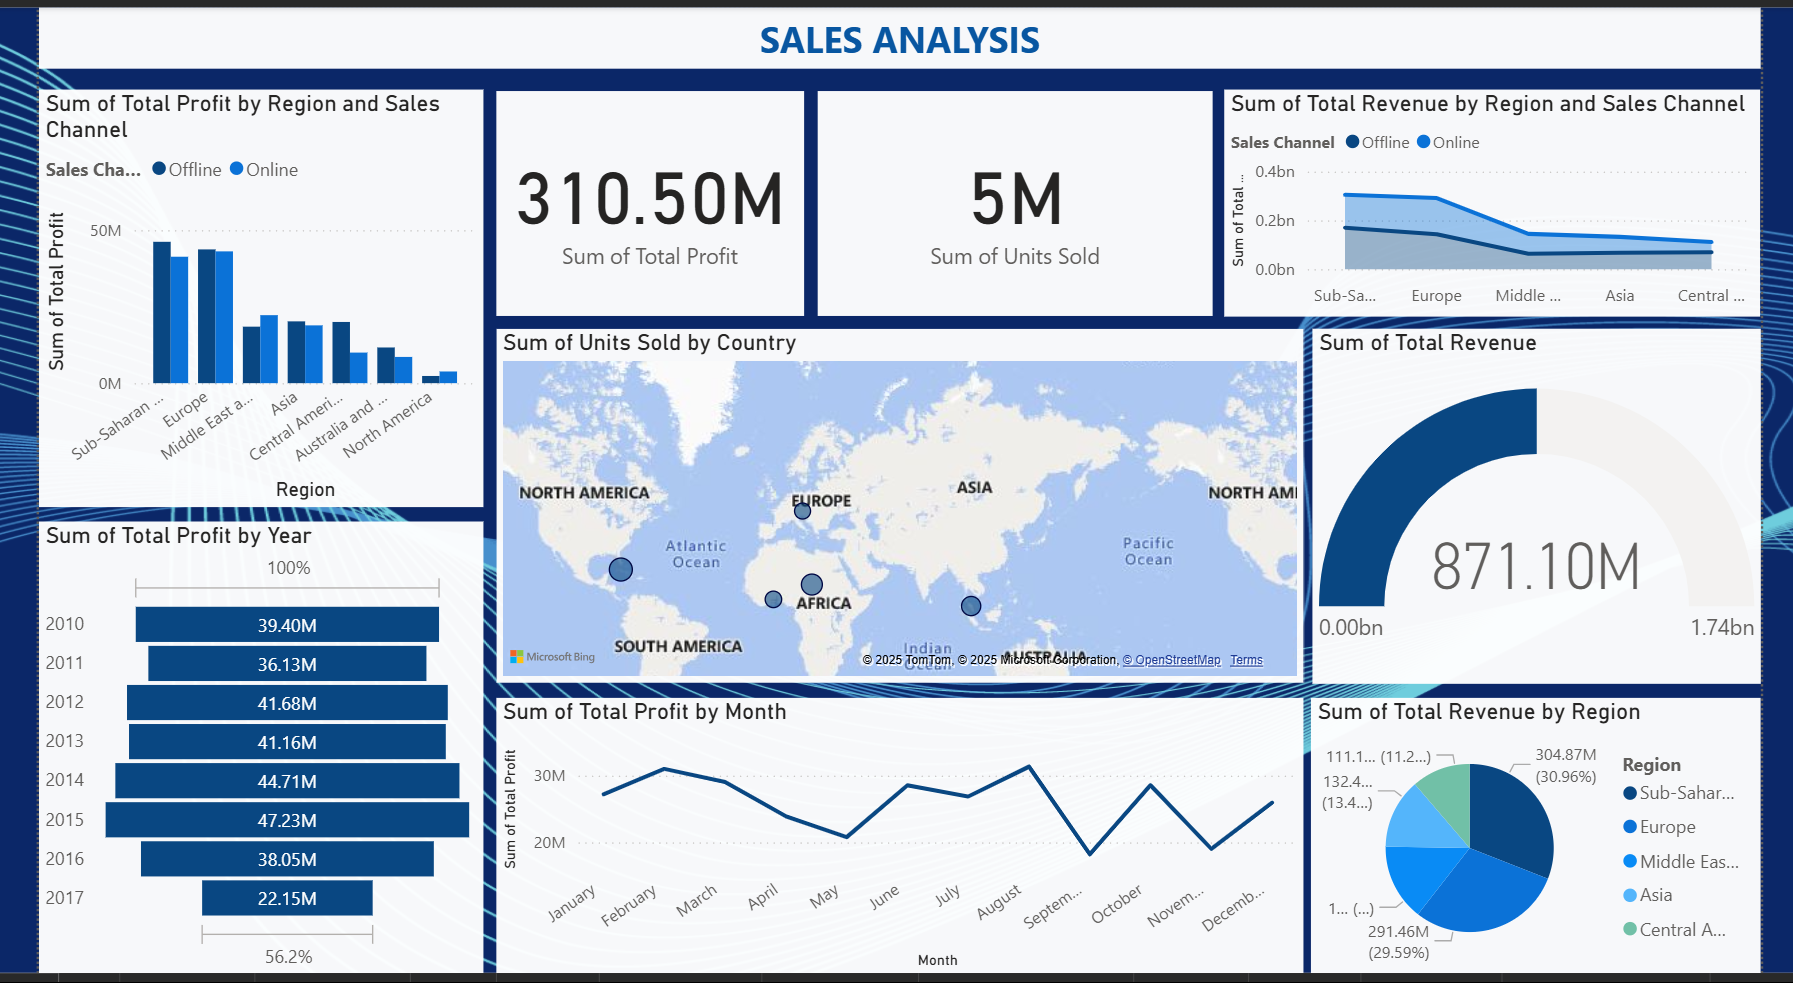

The dashboard page shown, as its layout file describes it:
{"tool":"powerbi","page":{"name":"Page 5","canvas":[1280,720],"ordinal":17},"visuals":[{"type":"textbox","box":[0,0,1280,45.6],"z":0},{"type":"clusteredColumnChart","fields":{"Category":["charts.Region"],"Y":["Sum(charts.Total Profit)"],"Series":["charts.Sales Channel"]},"box":[0,61.2,330,310],"z":1000},{"type":"lineChart","fields":{"Category":["charts.Order Date.Variation.Date Hierarchy.Month"],"Y":["Sum(charts.Total Profit)"]},"box":[340,513.8,600,206.2],"z":2000},{"type":"pieChart","fields":{"Category":["charts.Region"],"Y":["Sum(charts.Total Revenue)"]},"box":[945.6,513.3,334.4,204.4],"z":3000},{"type":"gauge","fields":{"Y":["Sum(charts.Total Revenue)"]},"box":[946.2,238.8,333.8,263.8],"z":4000},{"type":"card","fields":{"Values":["Sum(charts.Total Profit)"]},"box":[340,62.5,228.8,167.5],"z":5000},{"type":"funnel","fields":{"Y":["Sum(charts.Total Profit)"],"Category":["charts.Order Date.Variation.Date Hierarchy.Year"]},"box":[0,382.5,330,337.5],"z":6000},{"type":"map","fields":{"Category":["charts.Country","charts.Units Sold"],"Size":["Sum(charts.Units Sold)"]},"box":[340,238.3,600,263.3],"z":7000},{"type":"stackedAreaChart","fields":{"Category":["charts.Region"],"Series":["charts.Sales Channel"],"Y":["Sum(charts.Total Revenue)"]},"box":[881.2,61.2,398.8,168.8],"z":8000},{"type":"card","fields":{"Values":["Sum(charts.Units Sold)"]},"box":[578.8,62.5,293.8,167.5],"z":9000}]}

Visuals, with their boxes in screenshot pixels (x1, y1, x2, y2), scaled from the page's 1280x720 canvas onto the 1793x983 screenshot:
textbox: bbox=[0, 0, 1792, 62]
clusteredColumnChart - charts.Region x Sum(charts.Total Profit): bbox=[0, 84, 462, 507]
lineChart - charts.Order Date.Variation.Date Hierarchy.Month x Sum(charts.Total Profit): bbox=[476, 701, 1317, 982]
pieChart - charts.Region x Sum(charts.Total Revenue): bbox=[1325, 701, 1792, 980]
gauge - Sum(charts.Total Revenue): bbox=[1325, 326, 1792, 686]
card - Sum(charts.Total Profit): bbox=[476, 85, 797, 314]
funnel - Sum(charts.Total Profit) x charts.Order Date.Variation.Date Hierarchy.Year: bbox=[0, 522, 462, 982]
map - charts.Country x charts.Units Sold: bbox=[476, 325, 1317, 685]
stackedAreaChart - charts.Region x charts.Sales Channel: bbox=[1234, 84, 1792, 314]
card - Sum(charts.Units Sold): bbox=[811, 85, 1222, 314]
